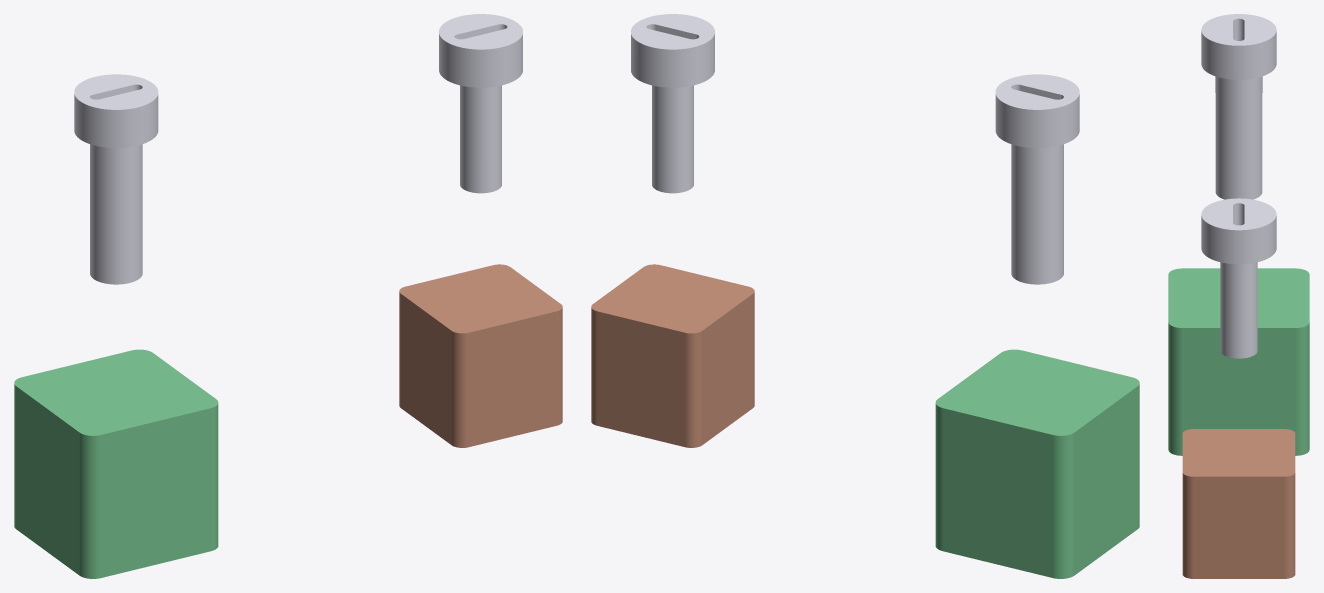
Rendered from ic_ice_montaj_ornegi.gltf.
The picture shows the model from 3 angles, left to right: view 1: azimuth 30°, elevation 25°; view 2: azimuth 150°, elevation 25°; view 3: azimuth 270°, elevation 25°; orthographic projection. The views are drawn at different scales.
Parts seen in each view (by area): view 1: destek_part, destek2_part, vida_part, vida2_part; view 2: destek_part, destek2_part, vida_part, vida2_part; view 3: destek_part, destek2_part, vida_part, vida2_part.
Boxes of the visible parts, x1=… form: destek_part: x1=14, y1=349, x2=218, y2=578; destek2_part: x1=399, y1=264, x2=562, y2=447; vida_part: x1=74, y1=74, x2=158, y2=284; vida2_part: x1=439, y1=14, x2=522, y2=193; destek_part: x1=935, y1=349, x2=1139, y2=578; destek2_part: x1=591, y1=264, x2=754, y2=447; vida_part: x1=995, y1=74, x2=1079, y2=284; vida2_part: x1=631, y1=14, x2=714, y2=193; destek_part: x1=1168, y1=268, x2=1309, y2=455; destek2_part: x1=1182, y1=429, x2=1295, y2=578; vida_part: x1=1201, y1=14, x2=1276, y2=199; vida2_part: x1=1201, y1=198, x2=1276, y2=358.
Size of the model in its own units: 53.5 by 46.5 by 15.
